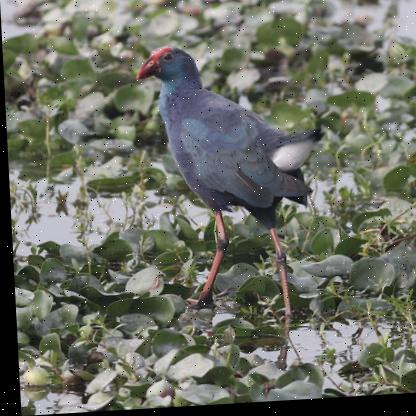Burung: (131, 37, 335, 338)
